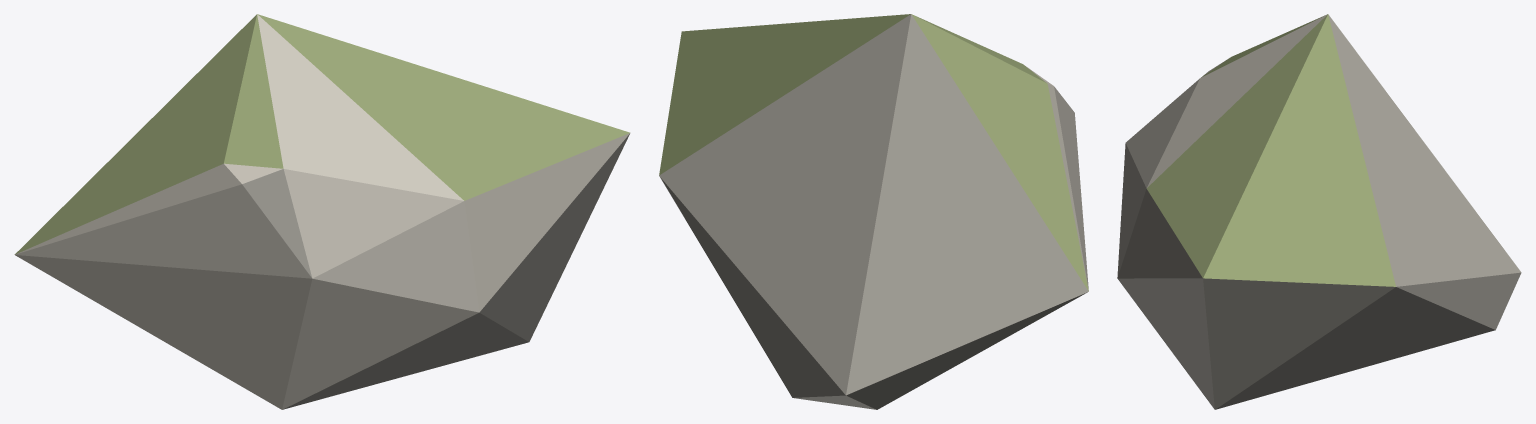
Rendered from Boulder_2.glb.
3 renders of one model, left to right at view 1: azimuth 30°, elevation 25°; view 2: azimuth 150°, elevation 25°; view 3: azimuth 270°, elevation 25°, orthographic. The views are drawn at different scales.
Parts seen in each view (by area): view 1: Boulder_2; view 2: Boulder_2; view 3: Boulder_2.
Part boxes in pixels (x1,y1,x2,y2): Boulder_2: [14, 14, 630, 409]; Boulder_2: [659, 14, 1088, 409]; Boulder_2: [1117, 14, 1521, 409].
Size of the model in its own units: 1.01 by 0.6211 by 0.7509.
